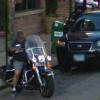Motorcycle: (15, 35, 67, 99)
